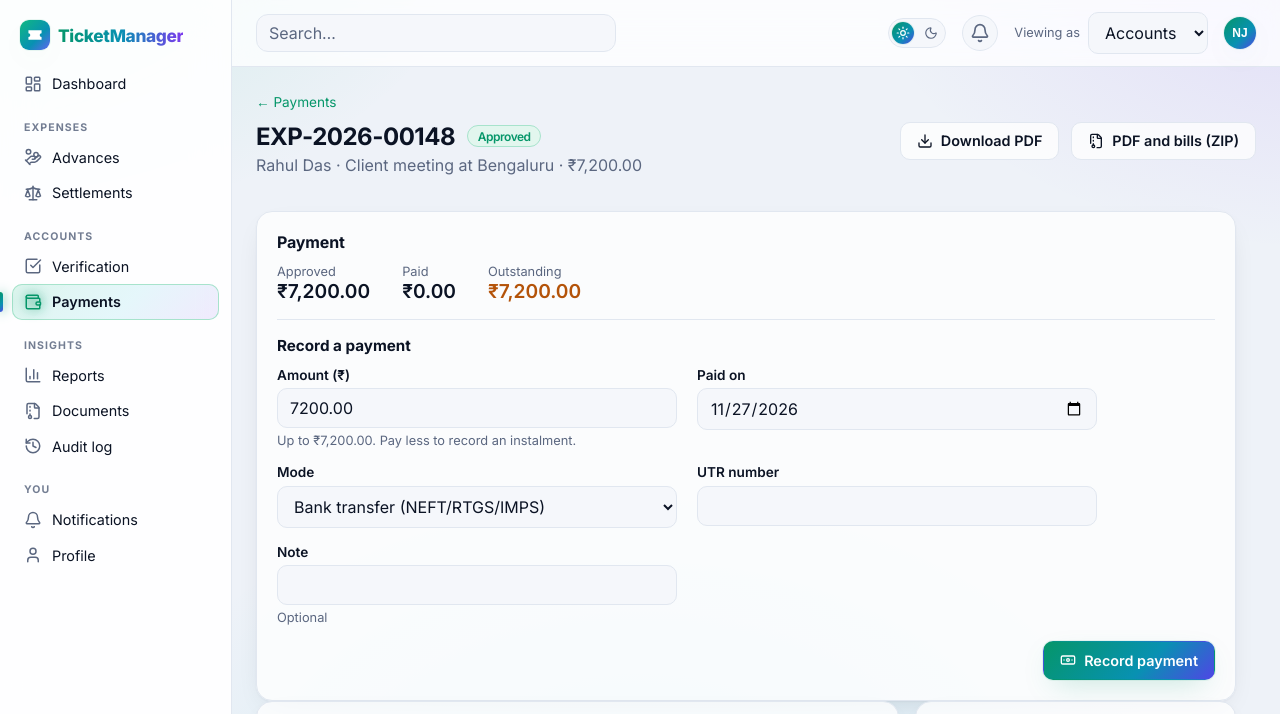
Test: Paying a voucher › records an instalment with the UTR
// More than outstanding can't be sent.
Replace the text in the field labelled "Amount (₹)" with "8000": (477, 408) [277,388,677,428]
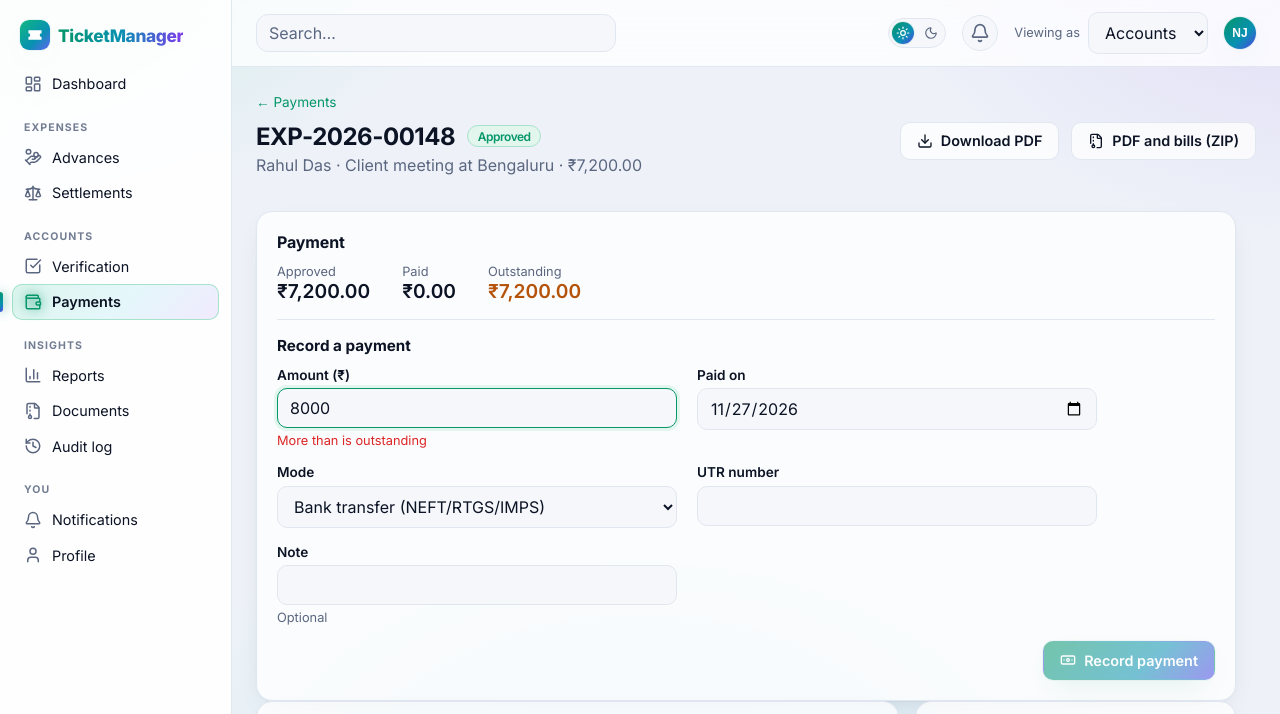
Expected: the button "Record payment" is disabled, [1043,641,1215,680]
Expected: the text "More than is outstanding" is shown, [277,433,427,448]
Replace the text in the field labelled "Amount (₹)" with "3000": (477, 408) [277,388,677,428]
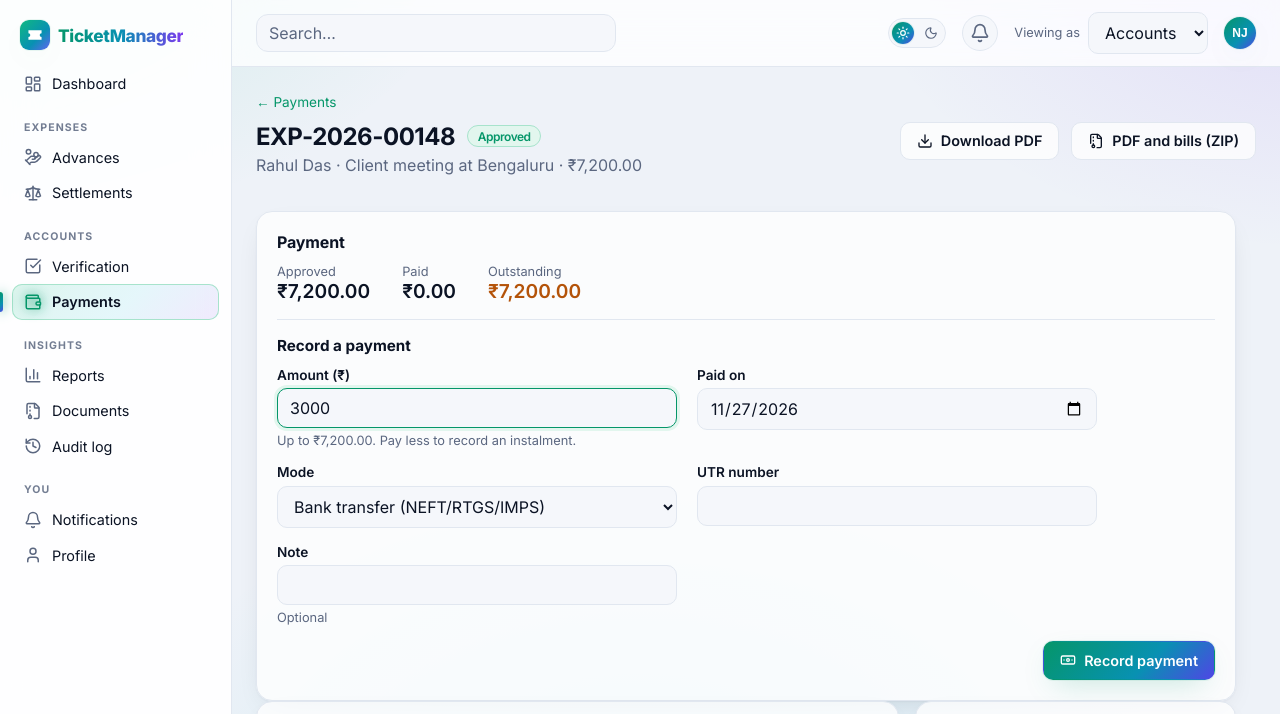
In the field labelled "UTR number": (897, 506) [697,486,1097,526], type "hdfc000123"
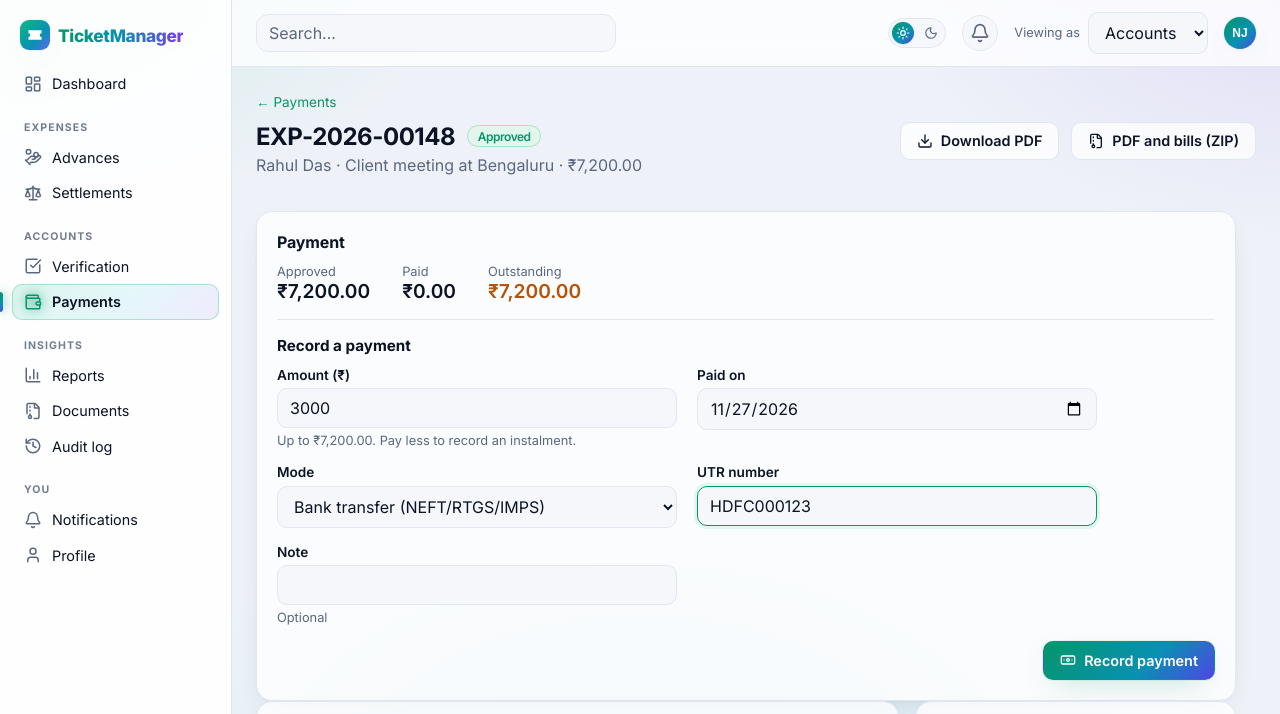
Click the button "Record payment": (1129, 660) [1043,641,1215,680]
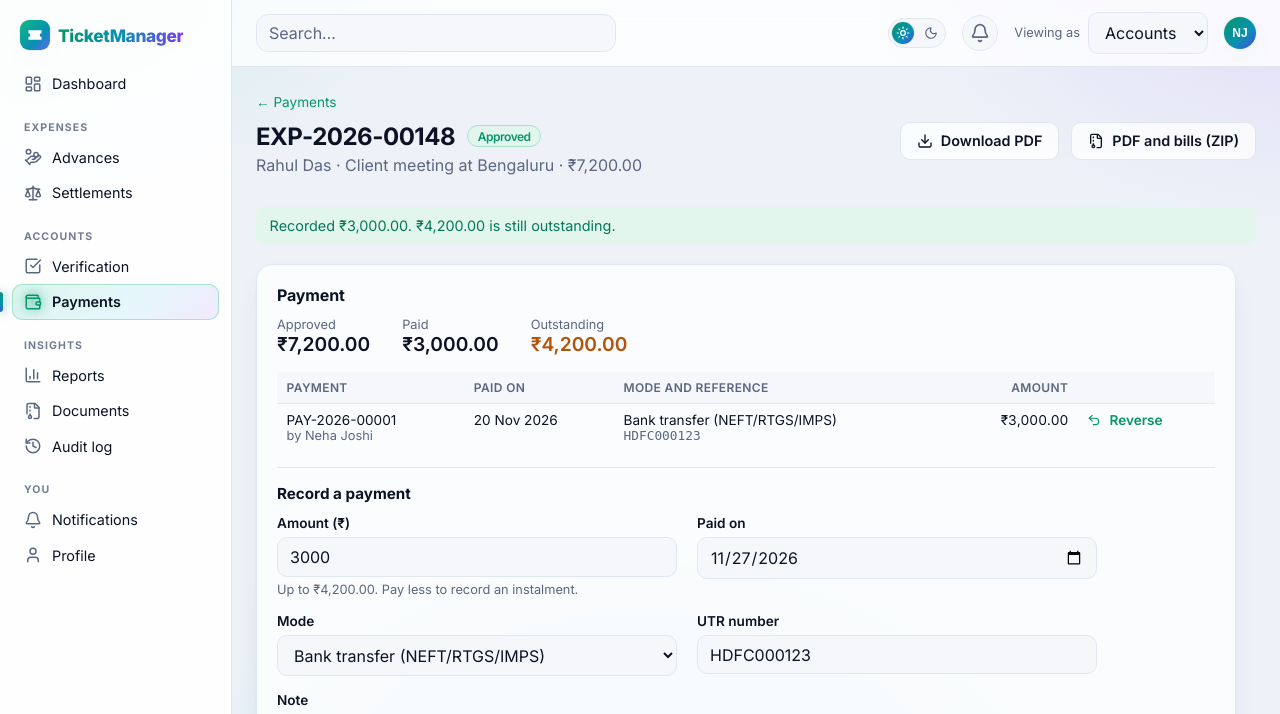
Expected: the text "Recorded ₹3,000.00. ₹4,200.00 is still outstanding." is shown, [256,207,1256,244]
Expected: the text "PAY-2026-00001" is shown, [287,412,396,428]
